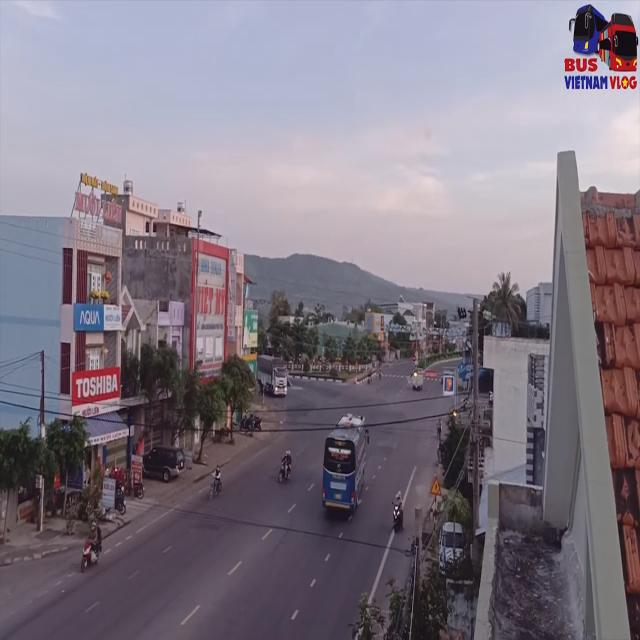bus: (321, 410, 369, 520)
motorbike: (81, 529, 102, 573), (279, 445, 294, 487), (209, 464, 224, 505), (392, 490, 404, 535)
